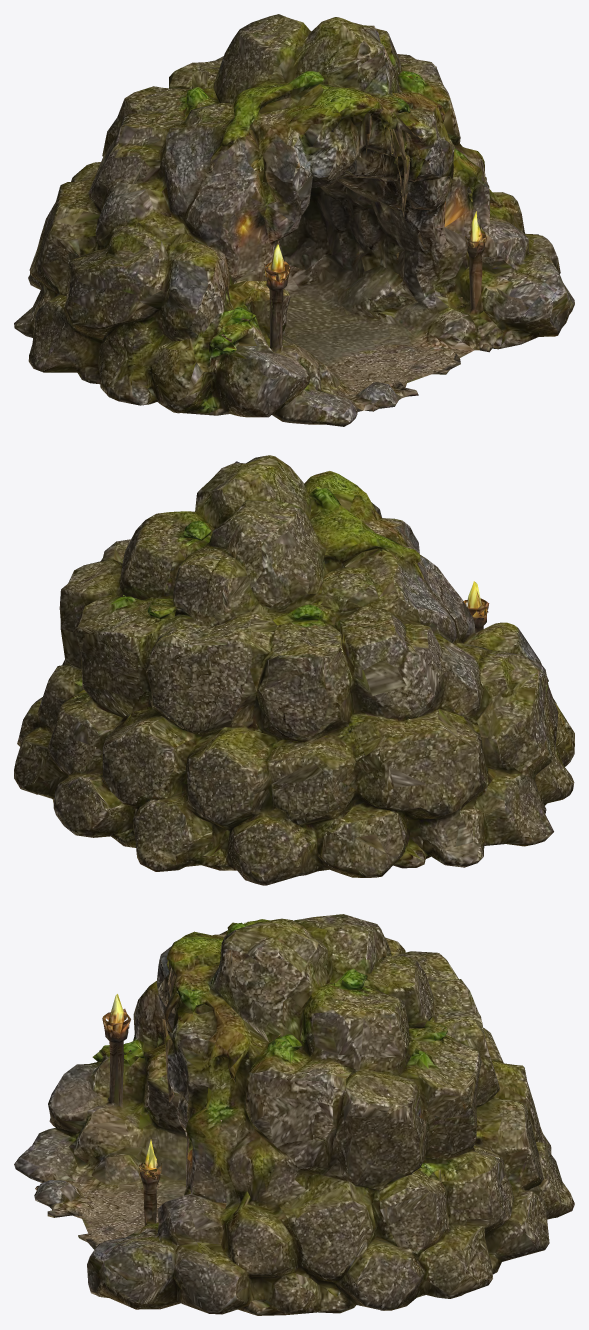
Rendered from caverna.glb.
3 views of the same model, one above another, from view 1: azimuth 30°, elevation 25°; view 2: azimuth 150°, elevation 25°; view 3: azimuth 270°, elevation 25° (orthographic). The views are drawn at different scales.
Parts seen in each view (by area): view 1: caverna; view 2: caverna; view 3: caverna.
Boxes of the visible parts, x1,y1,x2,y2 form: caverna: [14, 14, 574, 426]; caverna: [14, 455, 574, 885]; caverna: [14, 914, 574, 1315].
Bounding box in the file's own units: 8.83 × 5 × 8.22.
Materials: 1 (1 with a texture image).
